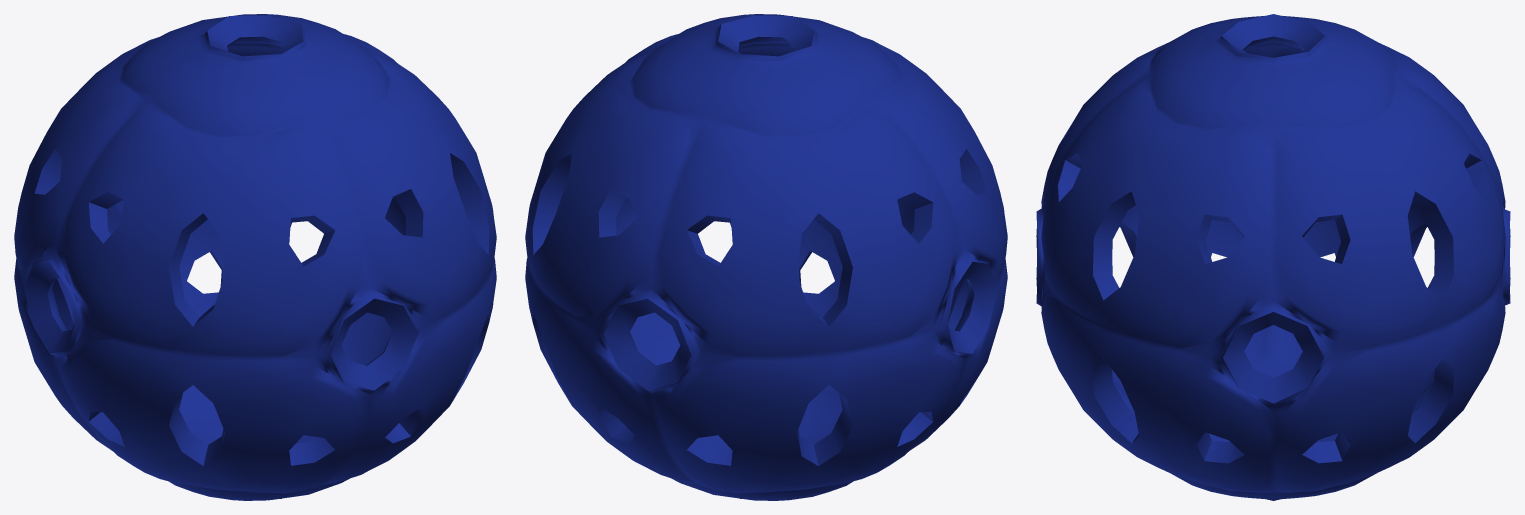
Rendered from testworld_radiolaria3.FBX.
3 renders of one model, left to right at view 1: azimuth 30°, elevation 25°; view 2: azimuth 150°, elevation 25°; view 3: azimuth 270°, elevation 25°, orthographic.
Parts seen in each view (by area): view 1: GeoSphere022; view 2: GeoSphere022; view 3: GeoSphere022.
Part boxes in pixels (<box>): GeoSphere022: <box>14,14,496,500</box>; GeoSphere022: <box>525,14,1007,500</box>; GeoSphere022: <box>1036,14,1510,500</box>.
Bounding box in the file's own units: 3973 × 4098 × 3973.
